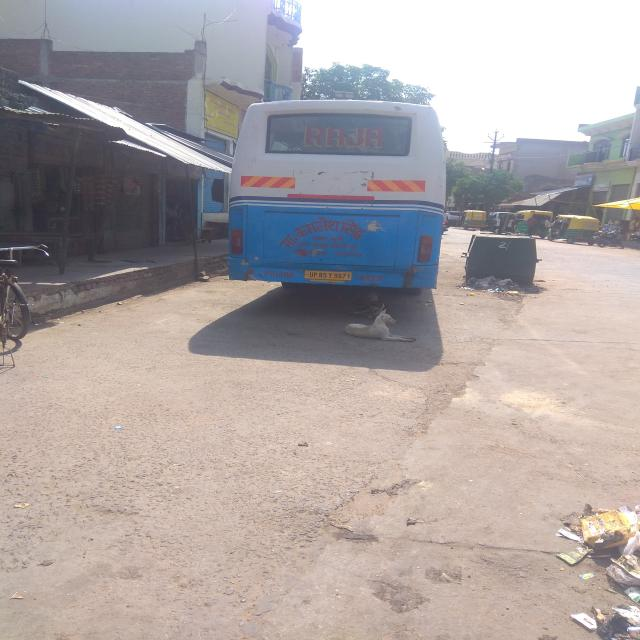Bus: (212, 94, 449, 292)
